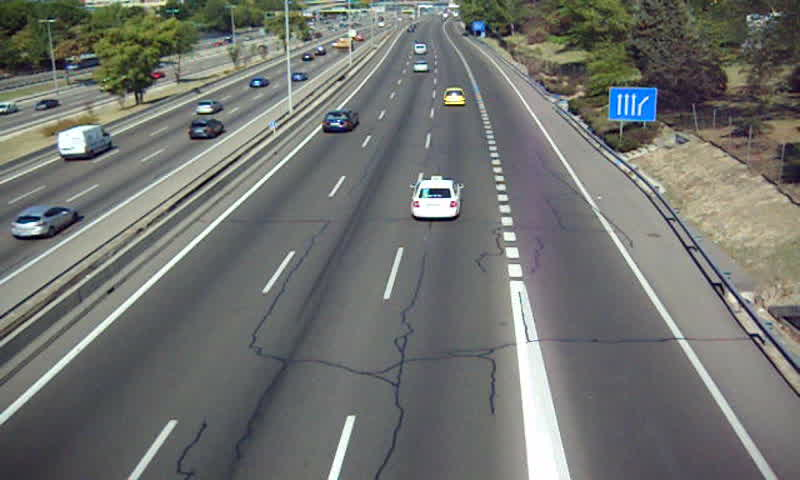car: (411, 177, 460, 218), (322, 112, 358, 131), (443, 87, 466, 106), (412, 60, 430, 74)
